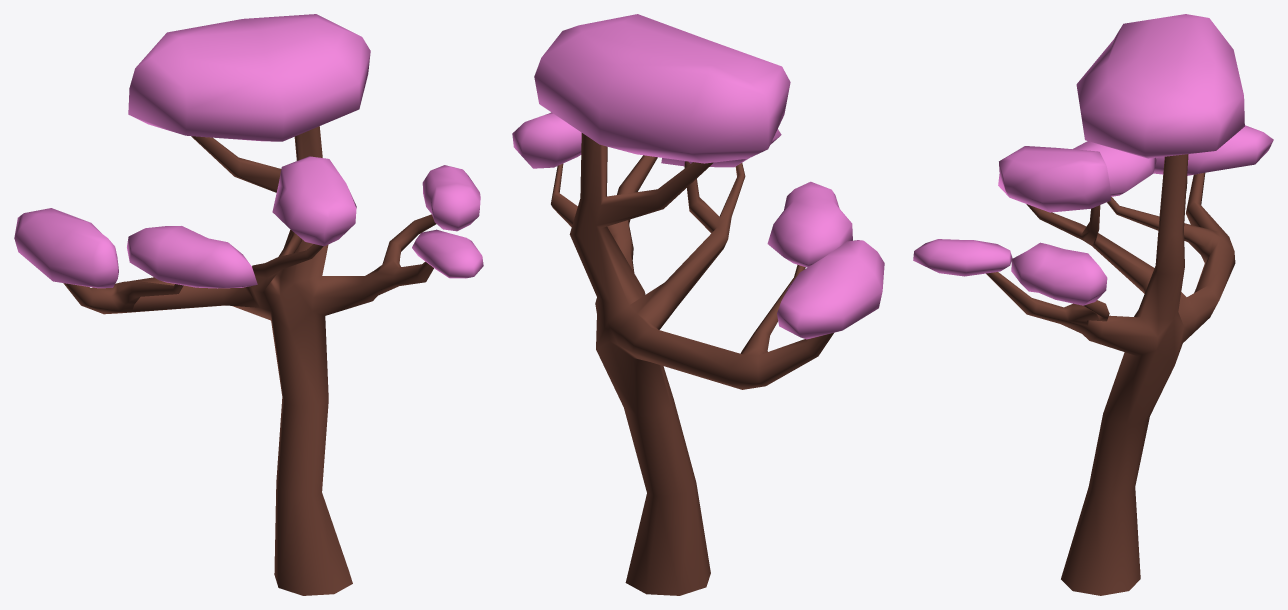
File: Arvore_Cerejera_4.fbx
3 renders of one model, left to right at view 1: azimuth 30°, elevation 25°; view 2: azimuth 150°, elevation 25°; view 3: azimuth 270°, elevation 25°, orthographic. The views are drawn at different scales.
Visible parts, largest first — view 1: Arvore_Cerejera_4; view 2: Arvore_Cerejera_4; view 3: Arvore_Cerejera_4.
Boxes of the visible parts, <box> form: Arvore_Cerejera_4: <box>14,14,483,595</box>; Arvore_Cerejera_4: <box>512,14,884,595</box>; Arvore_Cerejera_4: <box>913,14,1273,595</box>.
Size of the model in its own units: 3.77 by 4.5 by 5.98.
